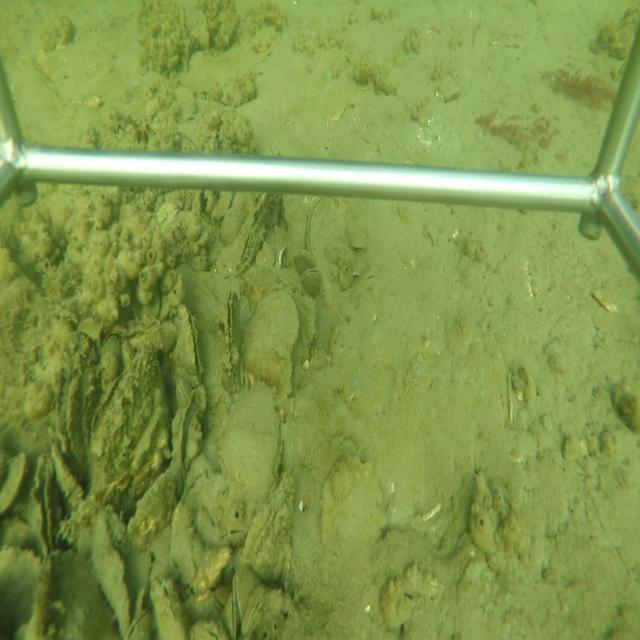Oyster-Closed: (85, 339, 170, 510), (215, 381, 283, 511), (167, 467, 229, 590), (306, 198, 368, 308), (230, 193, 283, 279), (216, 290, 243, 396), (150, 569, 187, 640), (175, 299, 203, 386), (238, 584, 267, 637), (214, 525, 245, 550)
Oyster-Indeterminate: (244, 288, 302, 402), (241, 468, 297, 584)
Oyster-Open: (172, 387, 208, 474), (30, 449, 54, 558)
